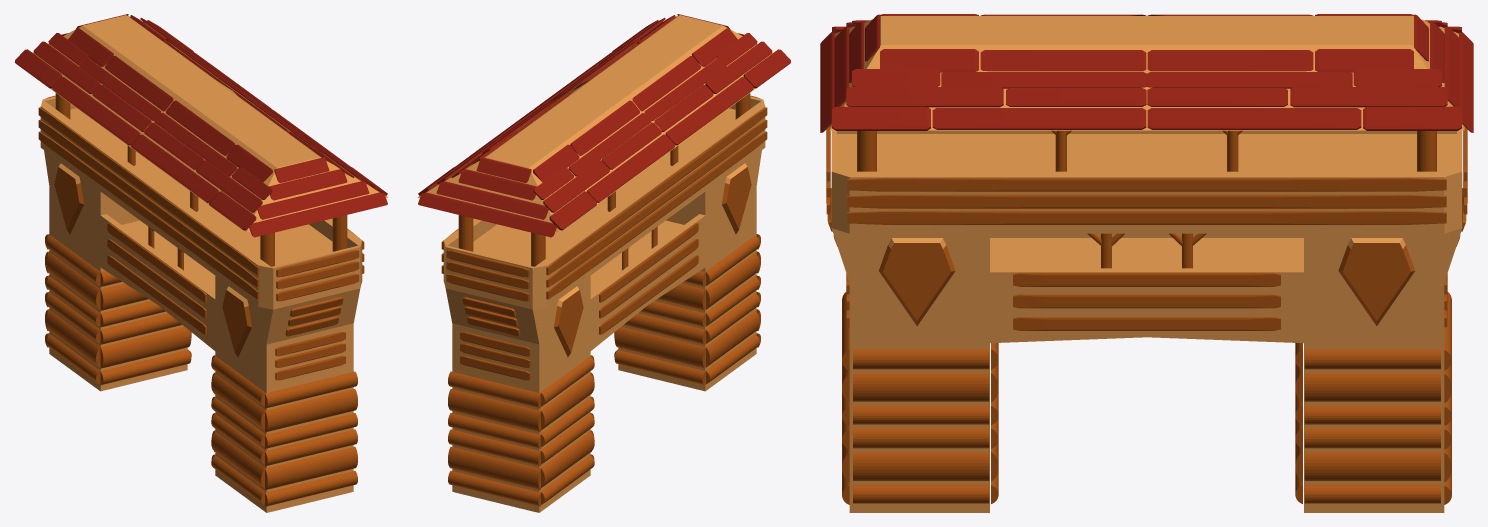
File: woodenGate.fbx
The picture shows the model from 3 angles, left to right: view 1: azimuth 30°, elevation 25°; view 2: azimuth 150°, elevation 25°; view 3: azimuth 270°, elevation 25°; orthographic projection. The views are drawn at different scales.
Parts seen in each view (by area): view 1: Gate.002; view 2: Gate.002; view 3: Gate.002.
Boxes of the visible parts, left/top/right/bottom form: Gate.002: left=14, top=14, right=387, bottom=512; Gate.002: left=418, top=14, right=791, bottom=512; Gate.002: left=820, top=14, right=1473, bottom=512.
Size of the model in its own units: 327 by 713 by 931.
